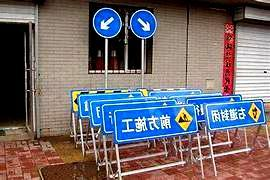sign: (116, 108, 196, 138), (207, 103, 266, 129)
